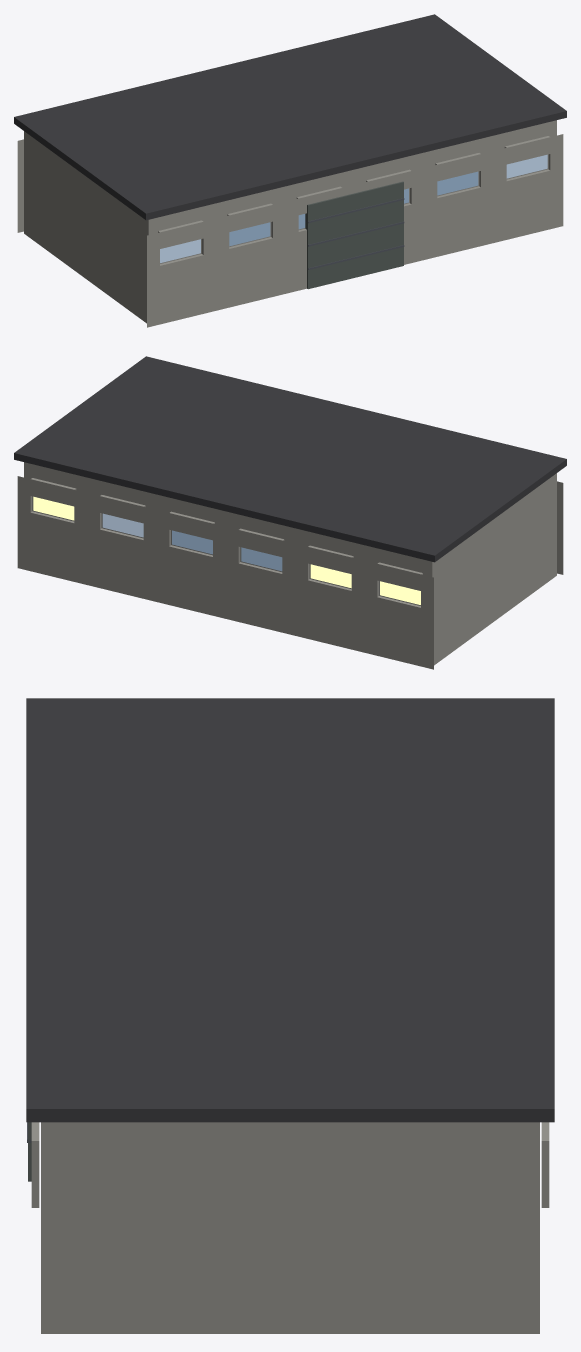
File: warehouse.glb
The picture shows the model from 3 angles, top to bottom: view 1: azimuth 30°, elevation 25°; view 2: azimuth 150°, elevation 25°; view 3: azimuth 270°, elevation 25°; orthographic projection. The views are drawn at different scales.
Visible parts, largest first — view 1: roof, facade_front, mass, gate, facade_back; view 2: roof, facade_back, mass, facade_front; view 3: roof, mass.
Part boxes in pixels (left/top/right/bottom): roof: left=14, top=14, right=566, bottom=220; facade_front: left=147, top=134, right=563, bottom=327; mass: left=24, top=120, right=556, bottom=323; gate: left=305, top=181, right=403, bottom=289; facade_back: left=17, top=139, right=23, bottom=232; roof: left=14, top=356, right=566, bottom=562; facade_back: left=17, top=476, right=433, bottom=669; mass: left=24, top=462, right=556, bottom=665; facade_front: left=557, top=481, right=563, bottom=574; roof: left=26, top=698, right=554, bottom=1122; mass: left=41, top=1122, right=539, bottom=1333.
Size of what is drawn, in the model's own units: 26.3 by 6.9 by 14.3.
